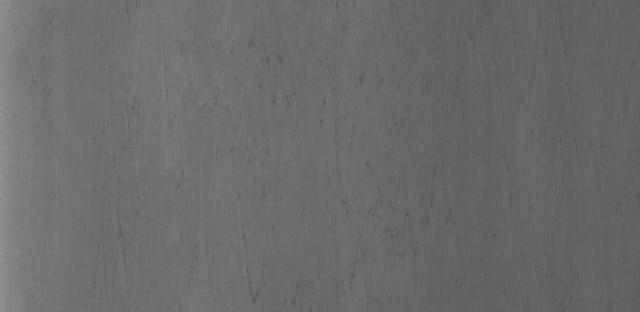silk_spot: (221, 36, 488, 288)
